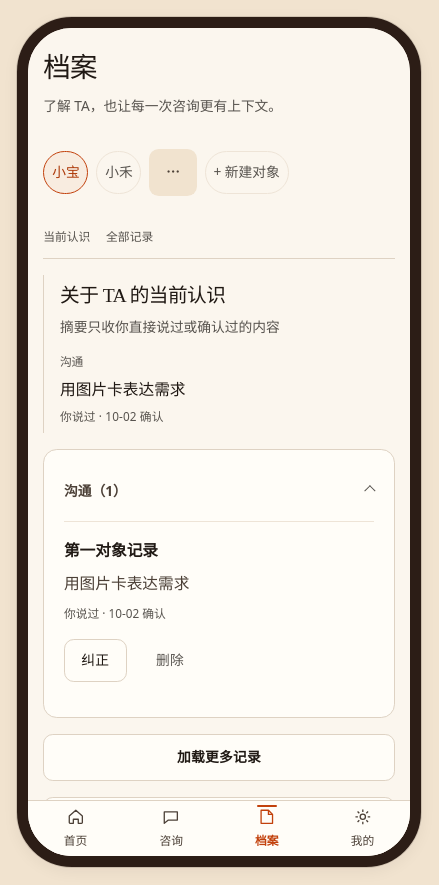
Test: 档案页 · 纠正流 › 切换对象后忽略上一对象迟到的分页响应
This screenshot has width=439, height=885.
Click the button "加载更多记录" at x=219, y=758, box [43,734,395,781]
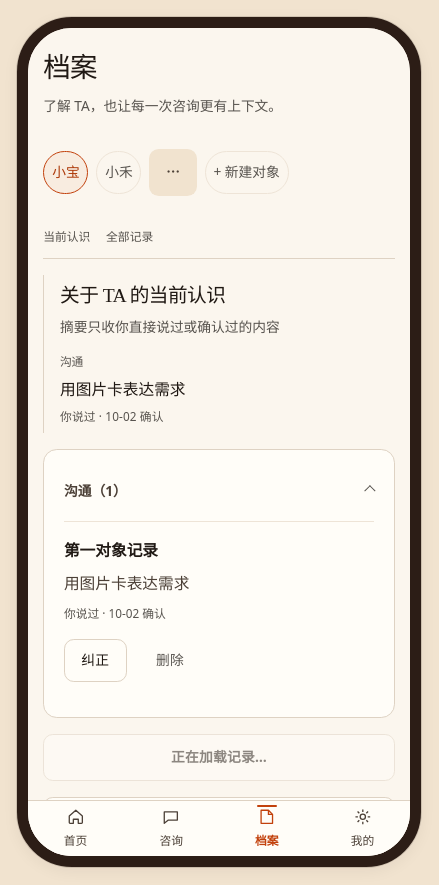
Click the button "小禾" at x=119, y=172, box [96,150,142,194]
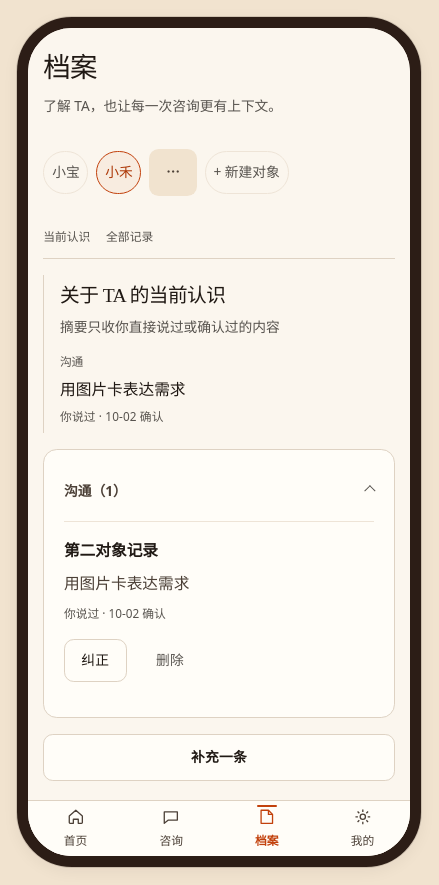
Check: the text "第二对象记录" is shown, box [64,538,158,560]
